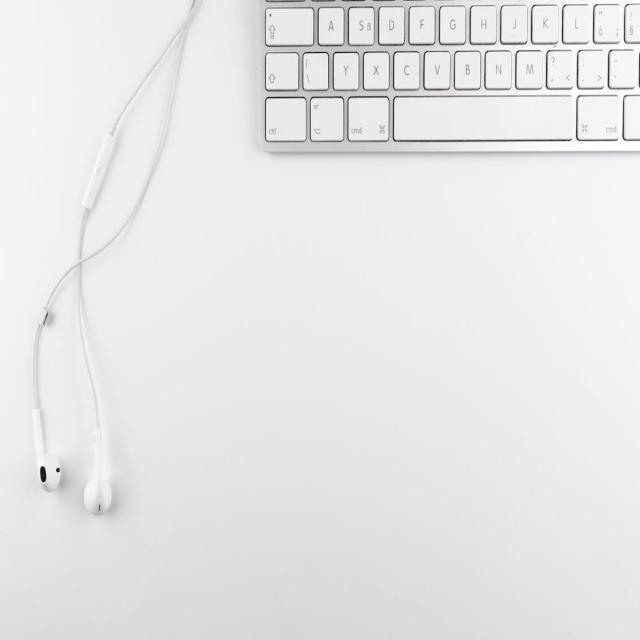Earphone: (33, 0, 199, 517)
